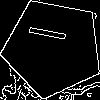I: (28, 23, 77, 45)
